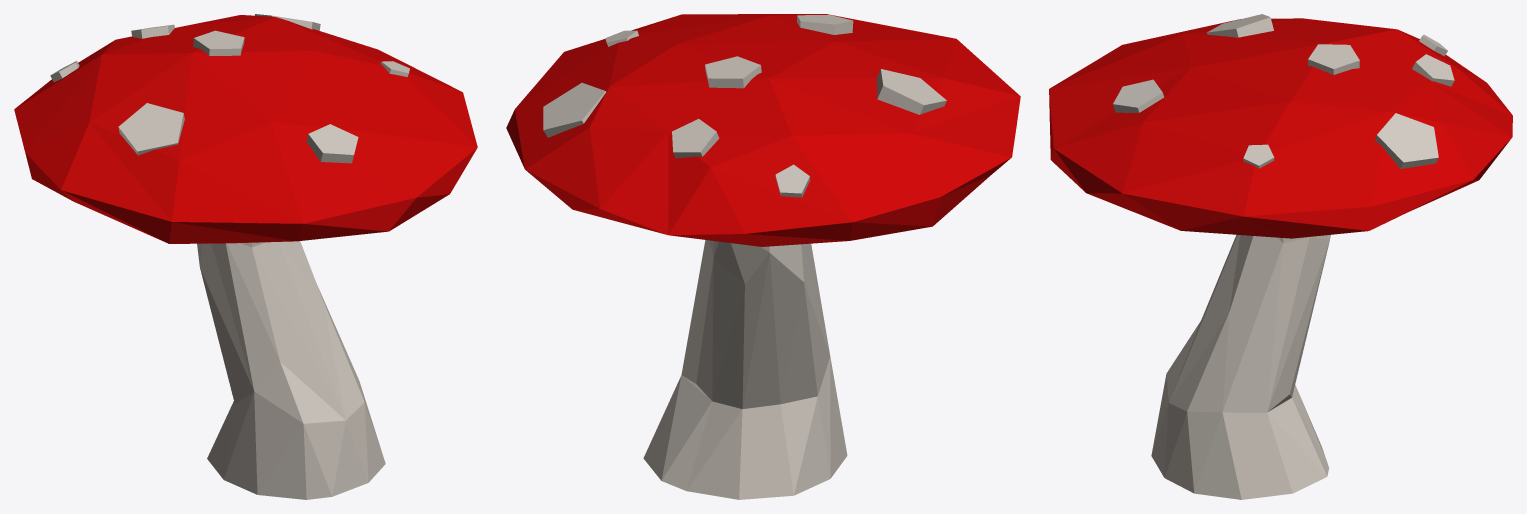
File: stm_env_Mushroom0003.fbx
The picture shows the model from 3 angles, left to right: view 1: azimuth 30°, elevation 25°; view 2: azimuth 150°, elevation 25°; view 3: azimuth 270°, elevation 25°; orthographic projection. The views are drawn at different scales.
Visible parts, largest first — view 1: Mushroom; view 2: Mushroom; view 3: Mushroom.
Part boxes in pixels (x1,y1,x2,y2): Mushroom: (14, 14, 477, 499); Mushroom: (506, 14, 1020, 499); Mushroom: (1049, 14, 1512, 499).
Size of the model in its own units: 1515 by 1423 by 1518.
